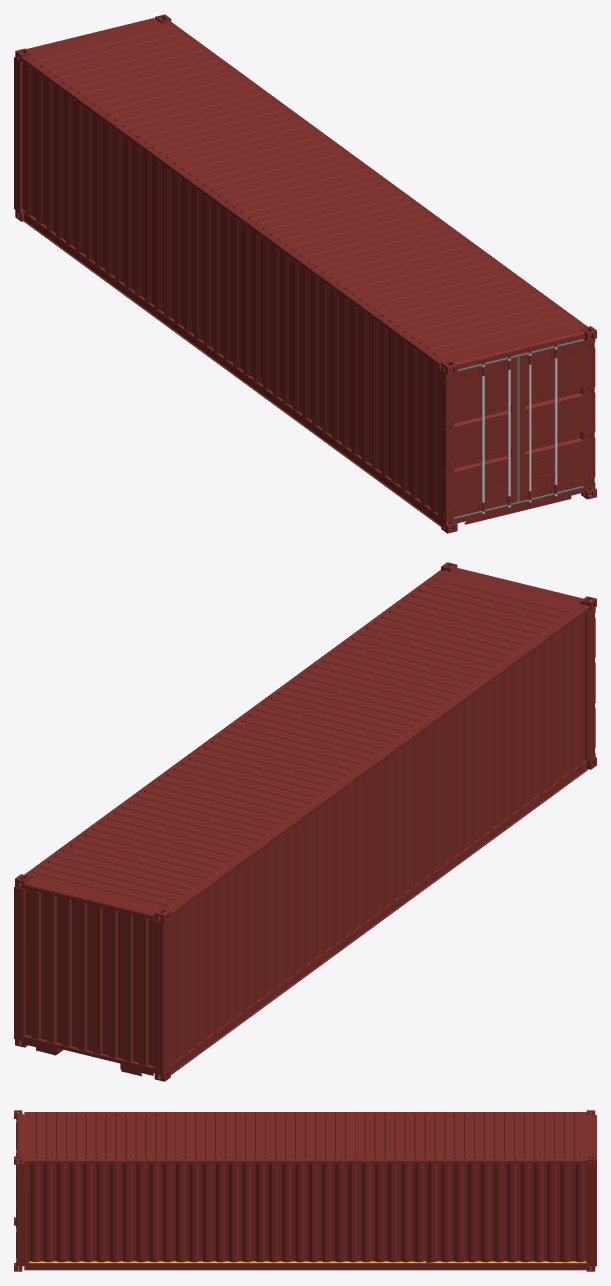
The model's file is container_multi.glb.
The picture shows the model from 3 angles, top to bottom: view 1: azimuth 30°, elevation 25°; view 2: azimuth 150°, elevation 25°; view 3: azimuth 270°, elevation 25°; orthographic projection. The views are drawn at different scales.
Parts seen in each view (by area): view 1: [112049].001; view 2: [112049].001; view 3: [112049].001.
Part boxes in pixels (x1,y1,x2,y2): [112049].001: (14, 14, 596, 533); [112049].001: (14, 562, 596, 1081); [112049].001: (14, 1110, 596, 1271).
Size of the model in its own units: 24.41 by 25.91 by 122.
Materials: 5 (2 with a texture image).
